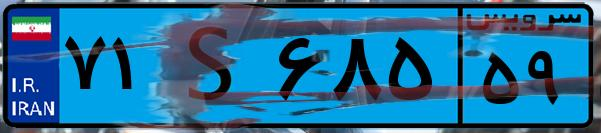1: (110, 28, 158, 98)
5: (385, 28, 445, 110), (475, 38, 525, 113)
6: (270, 28, 330, 110)
7: (57, 26, 110, 100)
8: (330, 28, 385, 110)
9: (525, 38, 570, 115)
S: (158, 12, 270, 120)
